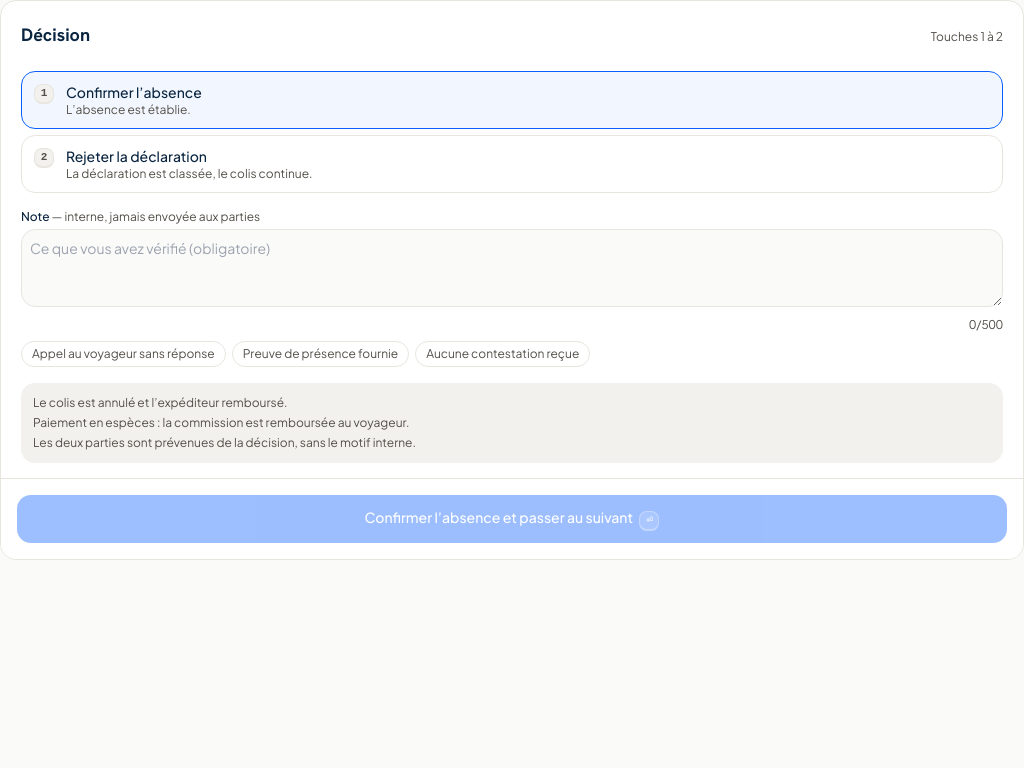
Scenario: IncidentDecisionPanel : absence › confirmer et rejeter, avec leurs conséquences
Expected: the list with test id "incident-preview" shows "remboursé", x1=33 y1=395 x2=288 y2=410
Click the radio button that starts with "Rejeter la déclaration" at (136, 156), box x1=21 y1=135 x2=1003 y2=193
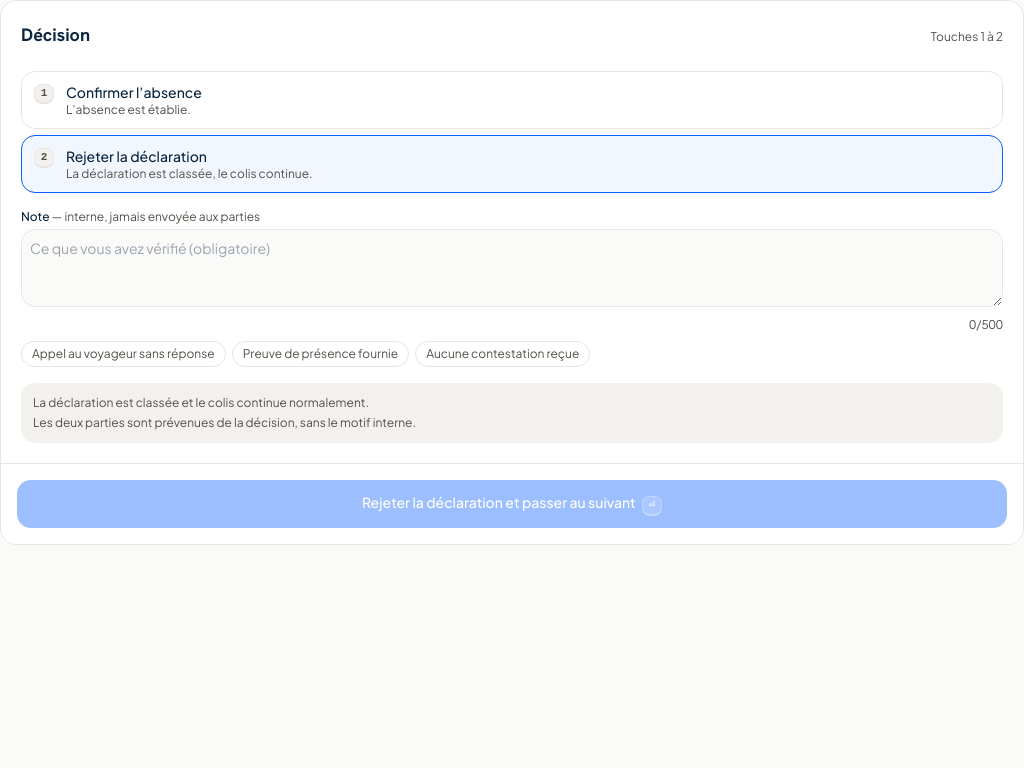
Result: the list with test id "incident-preview" shows "classée" at x1=33 y1=395 x2=369 y2=410
